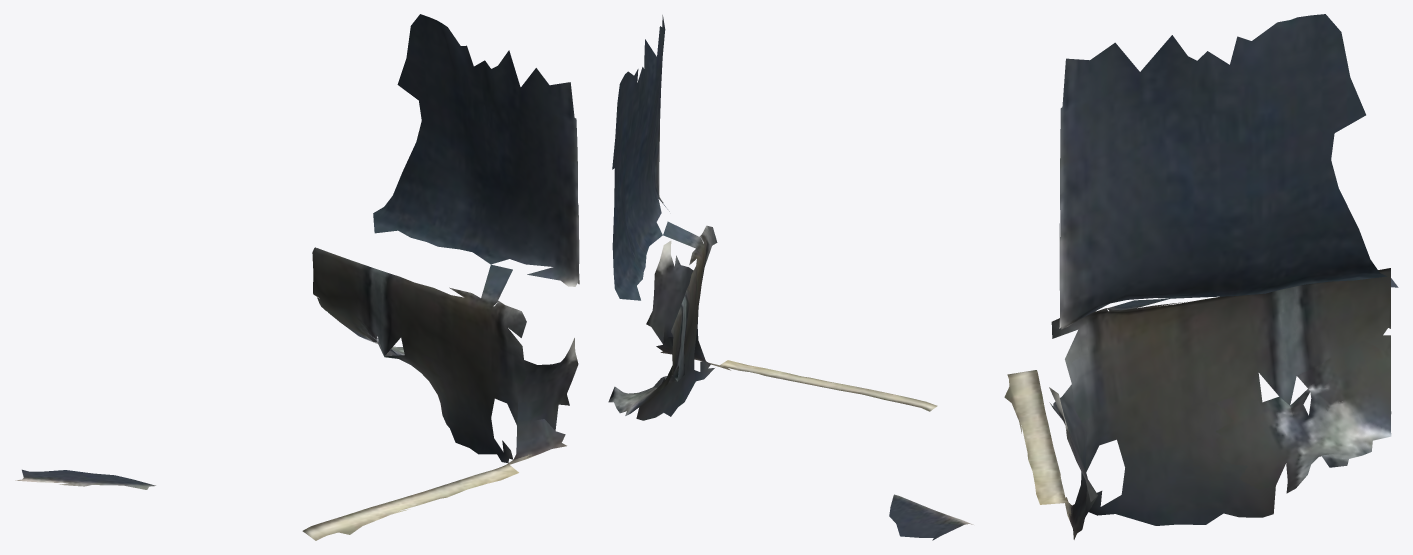
Rendered from paasikivi_monument.glb.
3 renders of one model, left to right at view 1: azimuth 30°, elevation 25°; view 2: azimuth 150°, elevation 25°; view 3: azimuth 270°, elevation 25°, orthographic. The views are drawn at different scales.
Parts seen in each view (by area): view 1: paasikivi_monument_Baked; view 2: paasikivi_monument_Baked; view 3: paasikivi_monument_Baked.
Part boxes in pixels (bbox=[...]): paasikivi_monument_Baked: bbox=[15, 14, 579, 540]; paasikivi_monument_Baked: bbox=[608, 15, 973, 540]; paasikivi_monument_Baked: bbox=[1004, 14, 1398, 539].
Bounding box in the file's own units: 7.4 × 6.09 × 4.2.
1 material, 1 textured.
